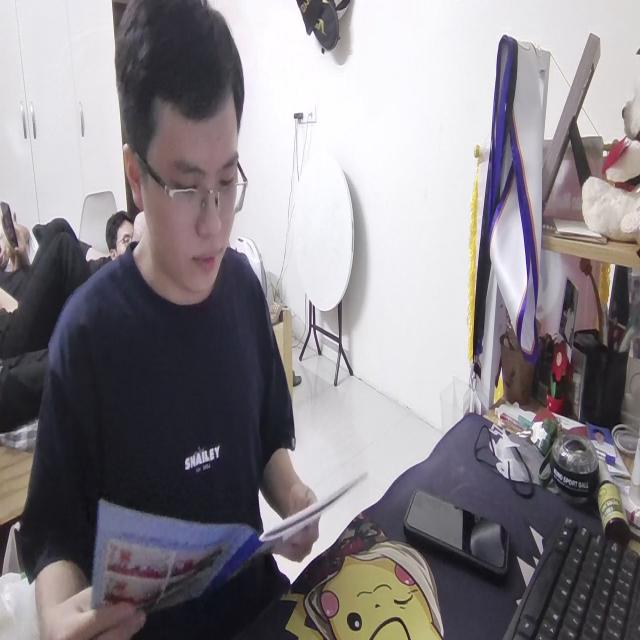book: (81, 468, 369, 640)
extra_person: (106, 206, 144, 259)
phone: (403, 475, 511, 590)
student: (17, 2, 324, 640)
